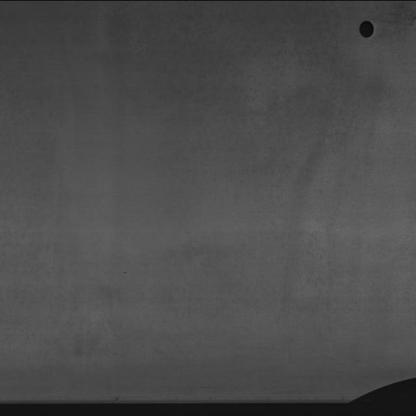crescent_gap: (333, 355, 416, 414)
punching_hole: (342, 5, 379, 44)
